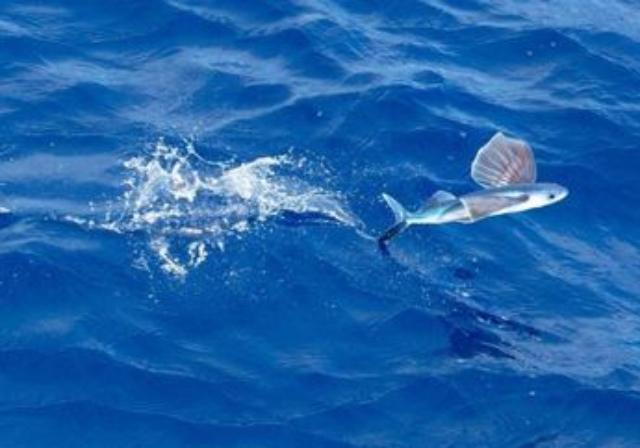Sirip Dada: (450, 126, 542, 232)
Sirip Ekor: (368, 182, 416, 256)
